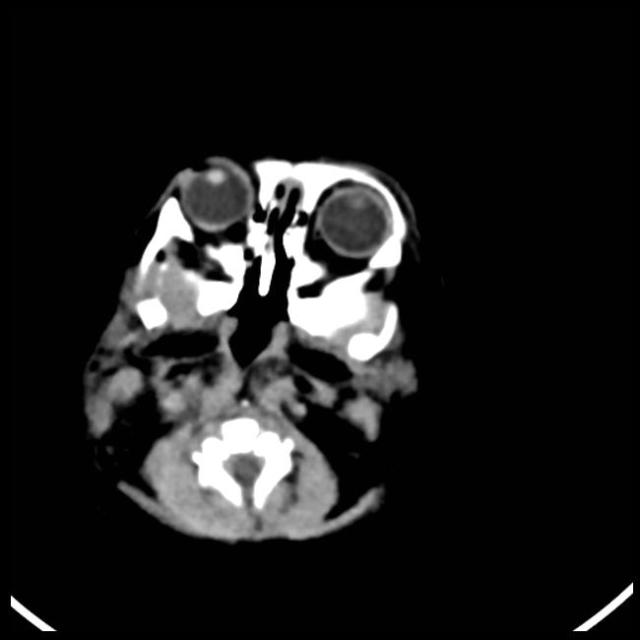lesion: (76, 148, 428, 549)
